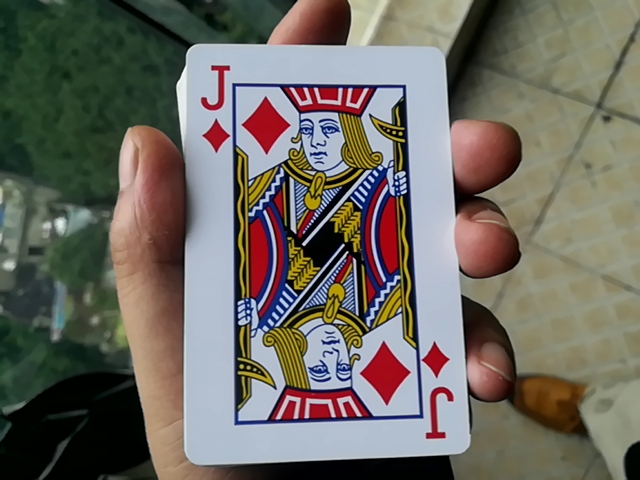fk j: (157, 49, 466, 471)
